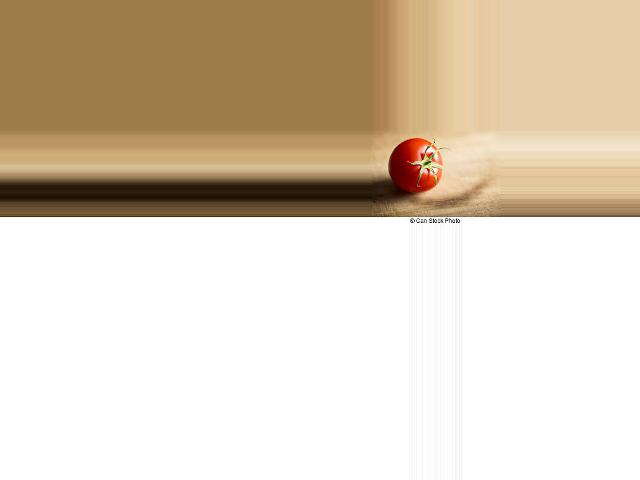tomato: (389, 139, 443, 192)
